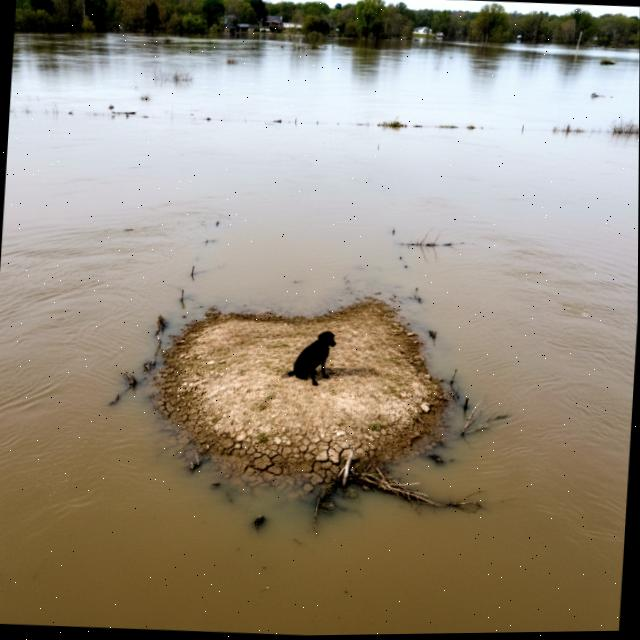dog: (280, 308, 349, 394)
